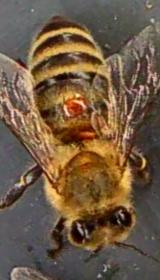varroa_mite: (56, 92, 90, 121)
